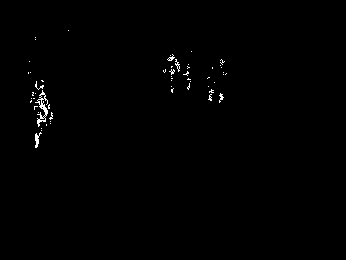person: (30, 77, 55, 149)
